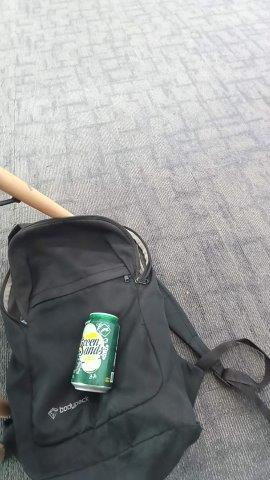kaleng: (70, 312, 120, 393)
